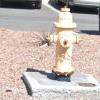a fire hydrant: (49, 6, 84, 77)
